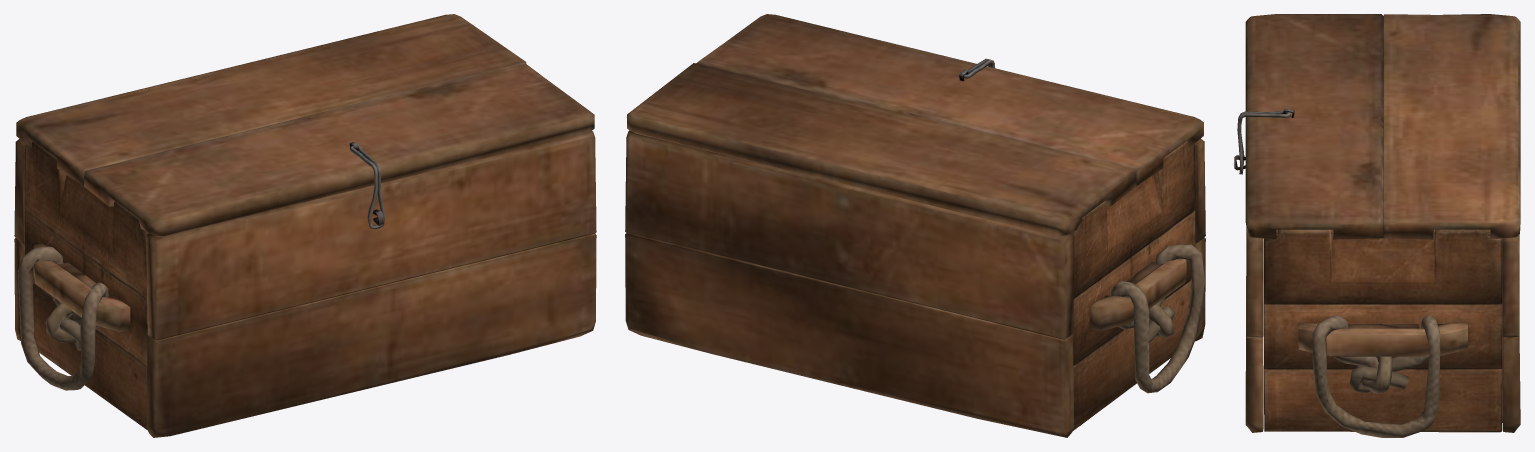
The model's file is crate.glb.
The picture shows the model from 3 angles, left to right: view 1: azimuth 30°, elevation 25°; view 2: azimuth 150°, elevation 25°; view 3: azimuth 270°, elevation 25°; orthographic projection. The views are drawn at different scales.
Visible parts, largest first — view 1: wooden_crate_01, wooden_crate_01_lid, wooden_crate_01_latch; view 2: wooden_crate_01, wooden_crate_01_lid; view 3: wooden_crate_01_lid, wooden_crate_01, wooden_crate_01_latch.
Part boxes in pixels (box(x1,y1,x2,y2)): wooden_crate_01: box(14, 131, 596, 437); wooden_crate_01_lid: box(16, 14, 594, 236); wooden_crate_01_latch: box(350, 145, 385, 229); wooden_crate_01: box(625, 130, 1205, 437); wooden_crate_01_lid: box(627, 14, 1203, 236); wooden_crate_01_lid: box(1245, 14, 1520, 239); wooden_crate_01: box(1234, 155, 1520, 437); wooden_crate_01_latch: box(1237, 111, 1290, 174).
Bounding box in the file's own units: 0.8245 × 0.3471 × 0.407.
1 material, 1 textured.
